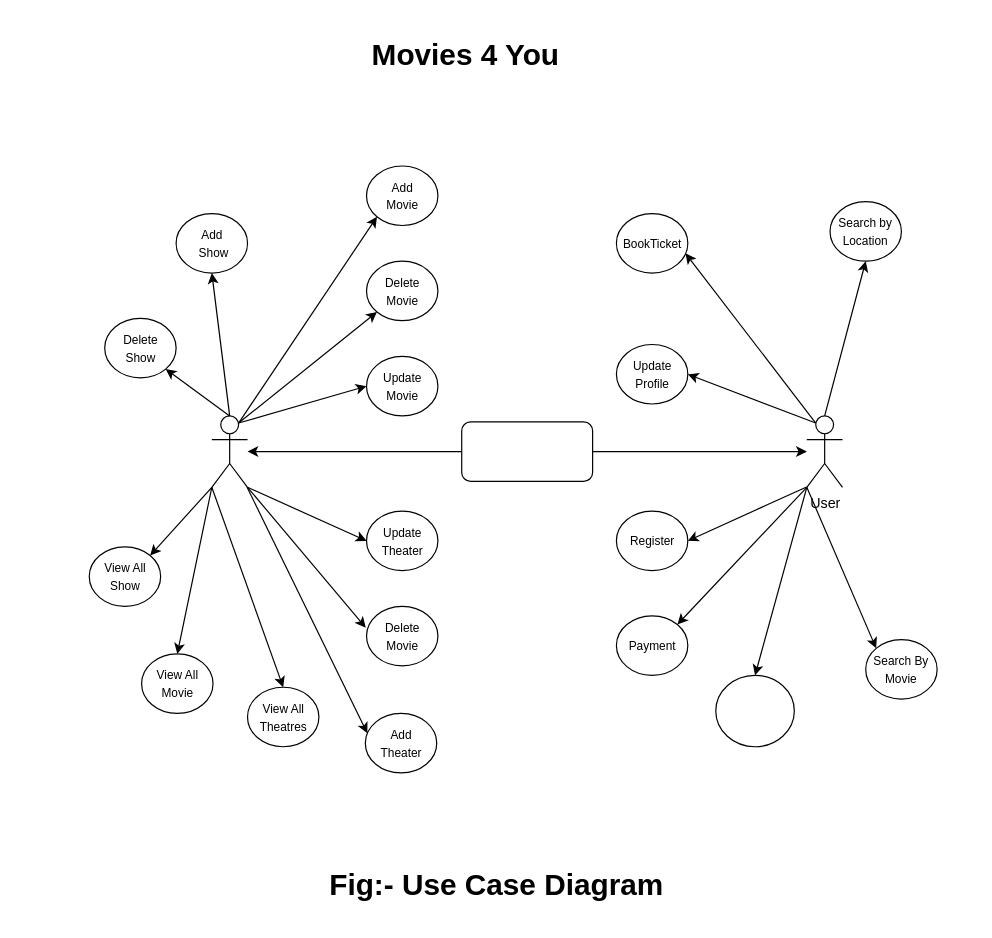
This 992x938 diagram has some shape labels left out. Each missing label, with the centre of its shape:
Admin: the point at 229,451
Filter By Date(Shows): the point at 754,710
Login/LogOut: the point at 527,451
